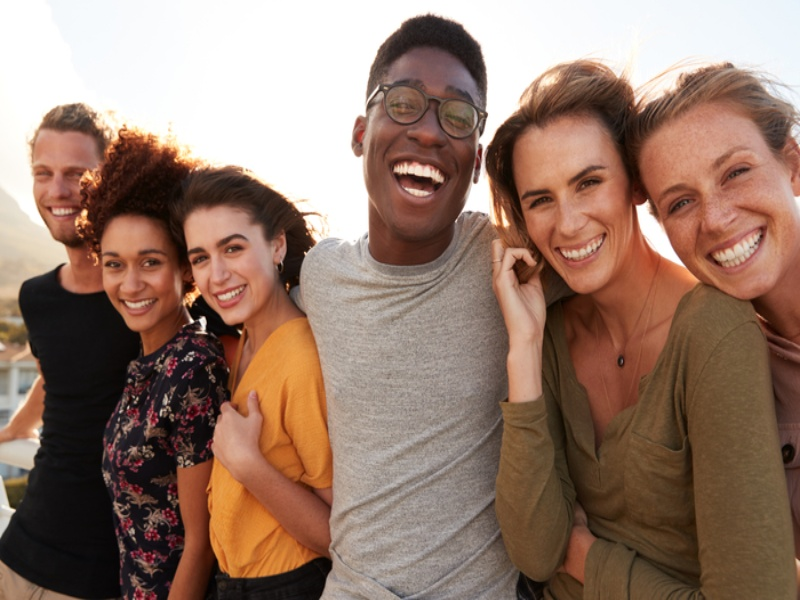smile: (638, 128, 800, 288), (512, 132, 630, 289), (362, 60, 464, 228), (181, 215, 274, 316), (101, 221, 170, 327), (32, 130, 94, 240)
